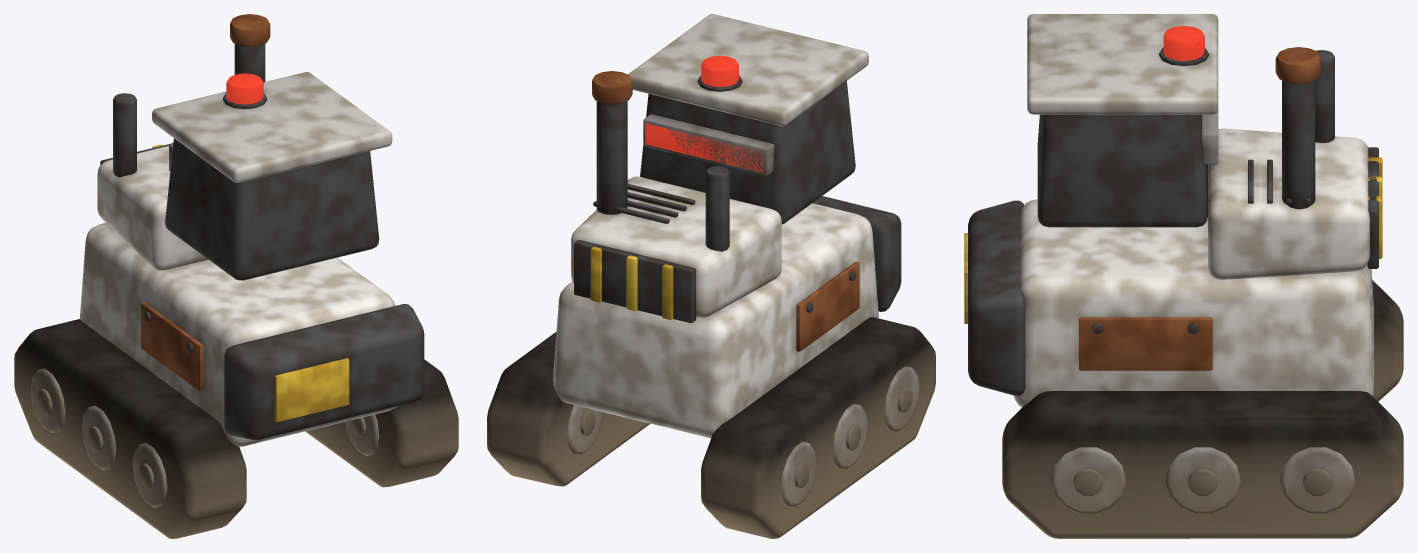
File: demolisher.glb
3 renders of one model, left to right at view 1: azimuth 30°, elevation 25°; view 2: azimuth 150°, elevation 25°; view 3: azimuth 270°, elevation 25°, orthographic. The views are drawn at different scales.
Visible parts, largest first — view 1: Demolisher; view 2: Demolisher; view 3: Demolisher.
Boxes of the visible parts, x1,y1,x2,y2 form: Demolisher: (14,14,458,538); Demolisher: (487,14,935,538); Demolisher: (964,14,1403,538).
Size of the model in its own units: 1.94 by 2.56 by 2.3.
Materials: 3 (3 with a texture image).
